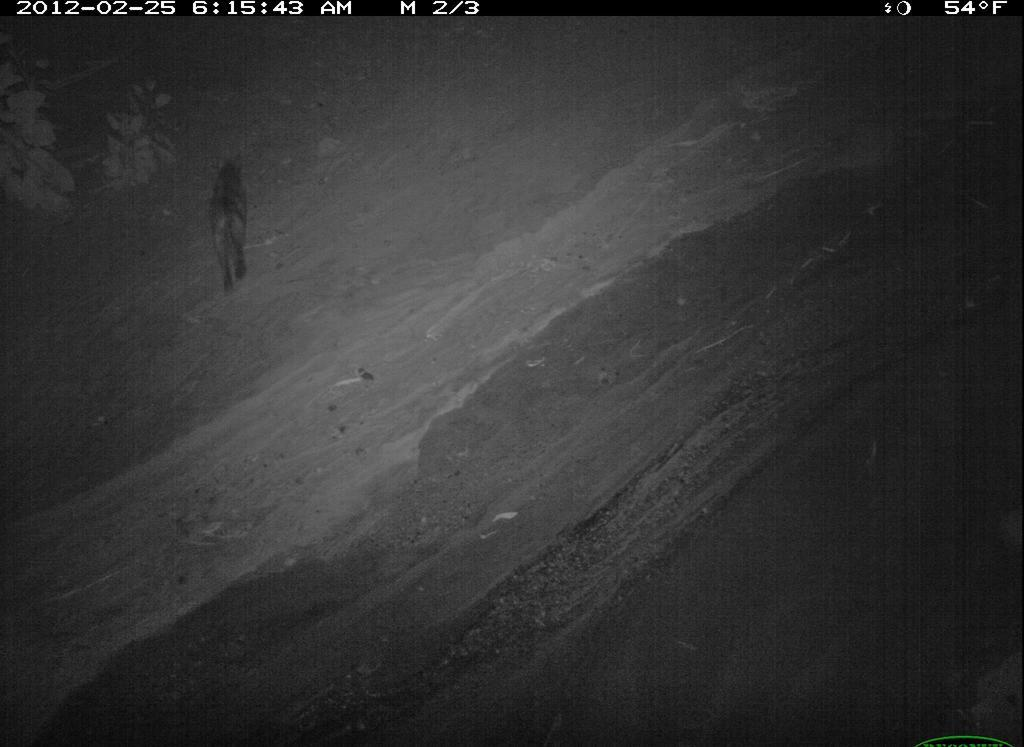cat: (407, 283, 514, 604)
